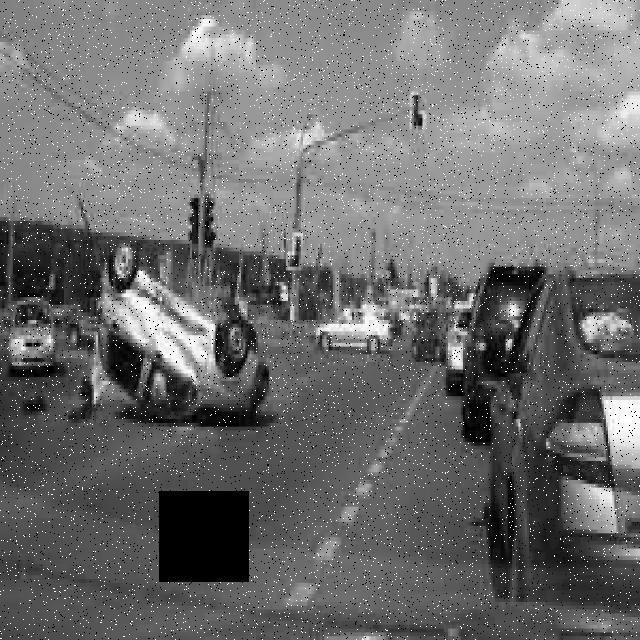accident: (88, 230, 276, 425)
vehicle: (496, 268, 640, 606), (461, 258, 553, 436), (316, 305, 398, 357), (5, 298, 59, 373), (448, 304, 472, 394)
